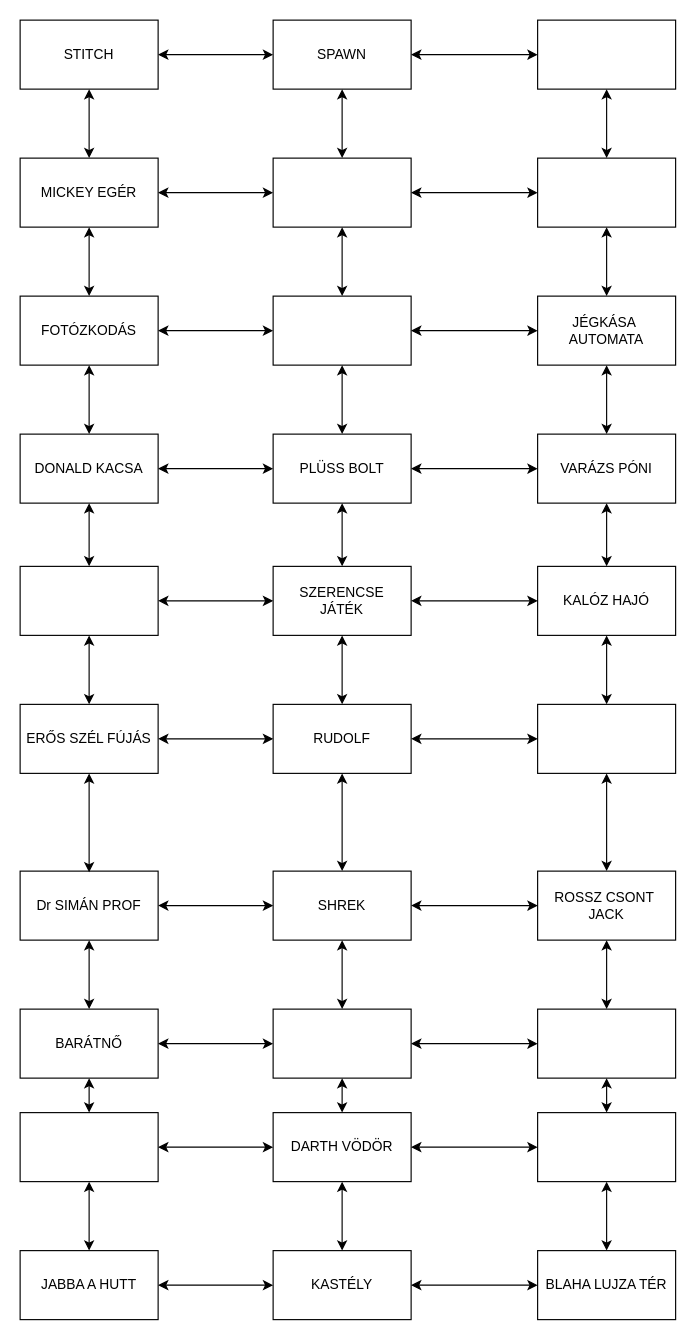
This 696x1340 diagram has some shape labels left out. Here are the shapes that lost their labels. From the top down, the box of each, then its label:
(536, 19, 676, 89): MAGDI ANYUS JÓSNŐ
(272, 157, 411, 227): BOHÓC
(536, 157, 676, 227): ISMERŐSBE BOTLASSZ
(272, 295, 411, 365): SZÖKŐKÚT
(19, 565, 158, 635): POPCORN ÁRUS
(536, 703, 676, 773): Dr. CSOKIS ÁKOS
(272, 1008, 411, 1078): BOBA "FAT"
(536, 1008, 676, 1078): MICI MACKÓ
(19, 1111, 158, 1182): LAJCSI KIRÁLY
(536, 1111, 676, 1182): GYEREK FELLÖKÉS
